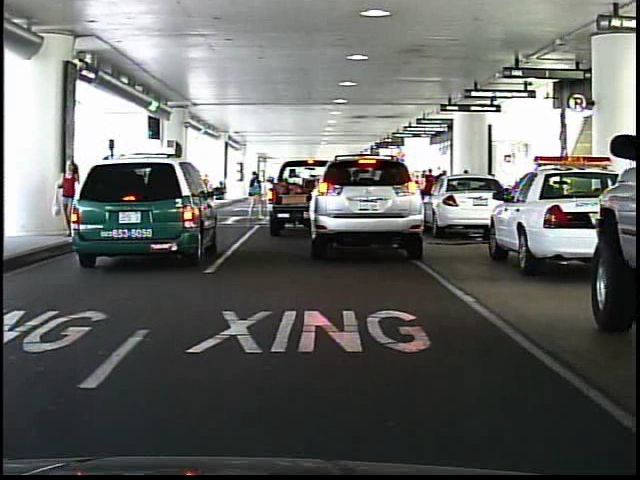person: (51, 155, 85, 243), (242, 168, 266, 224)
